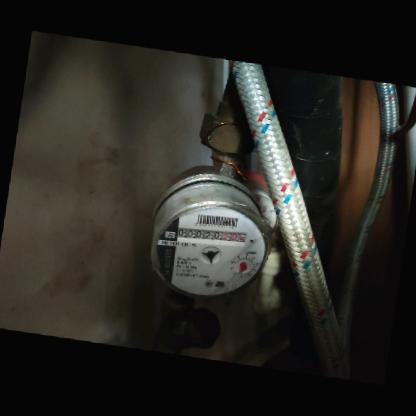digital_screen: (175, 224, 223, 243)
